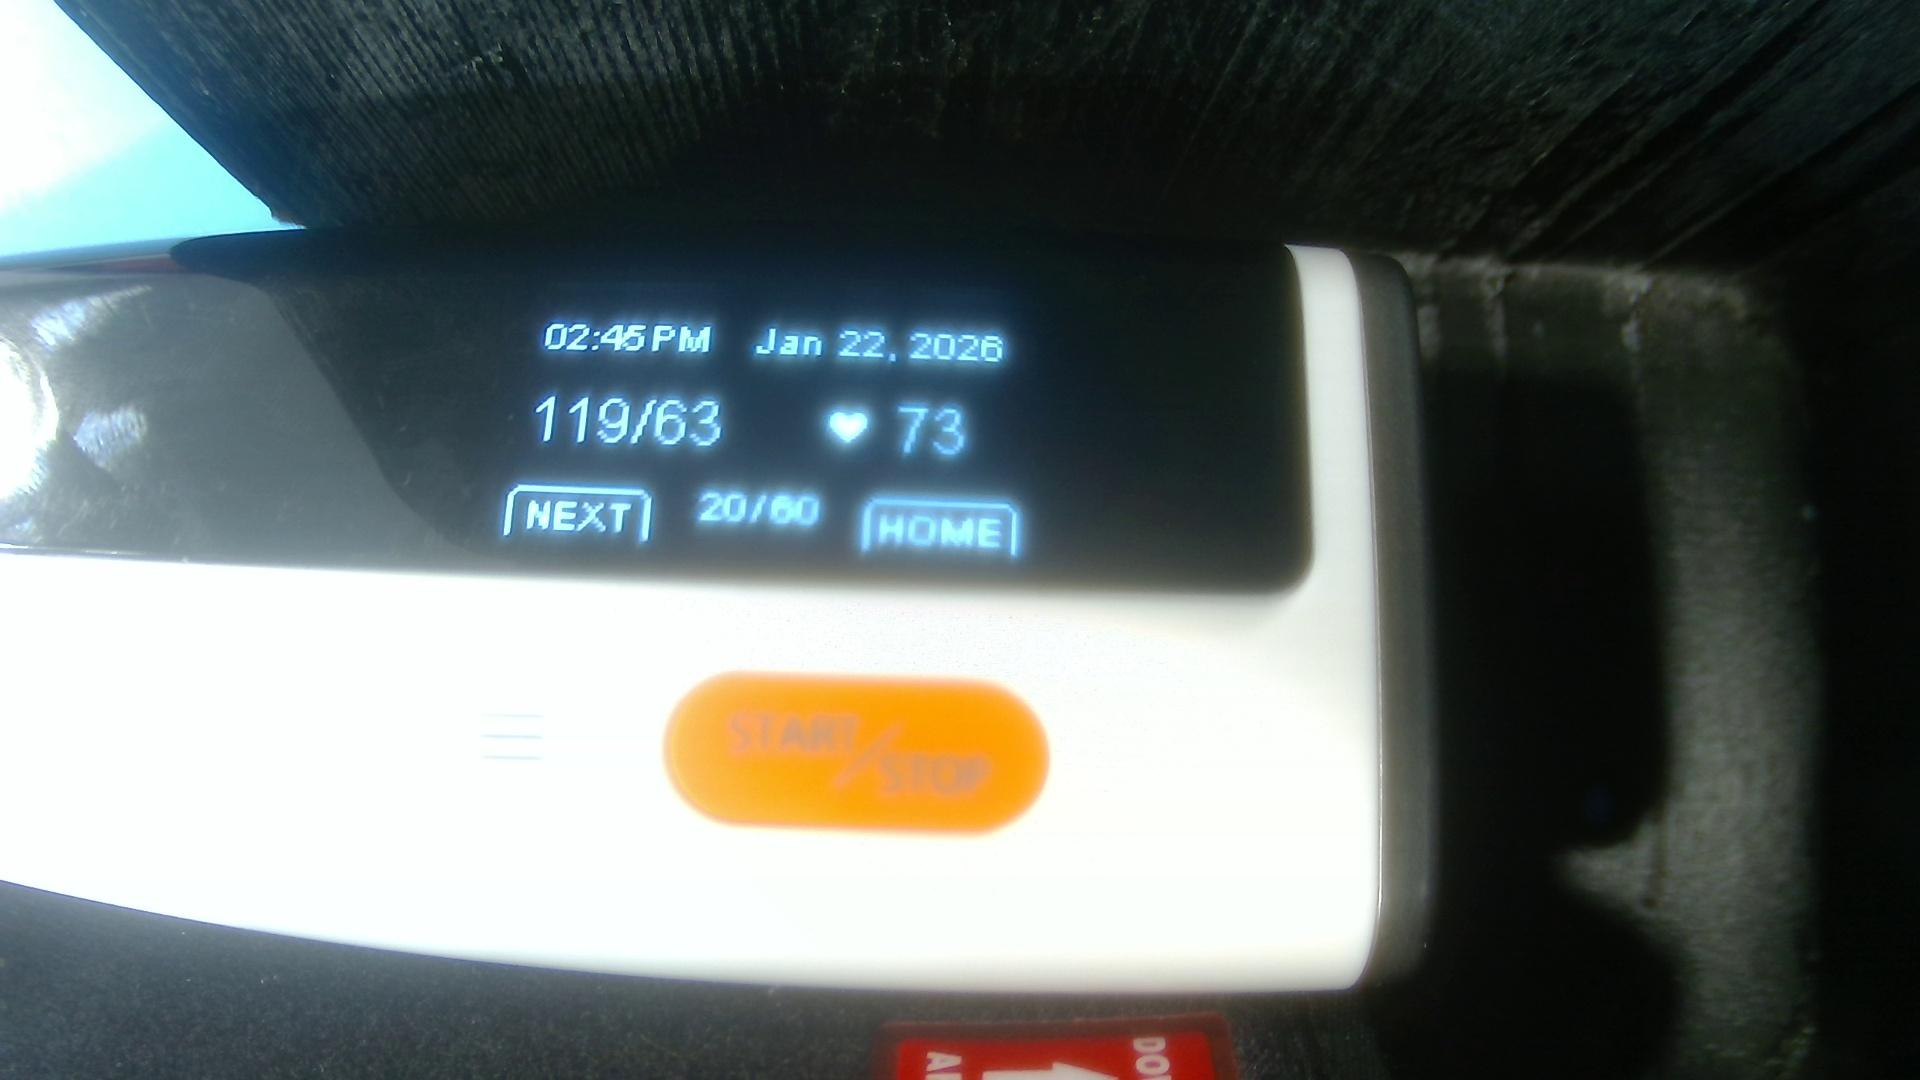DISPLAY: (7, 247, 1283, 587)
